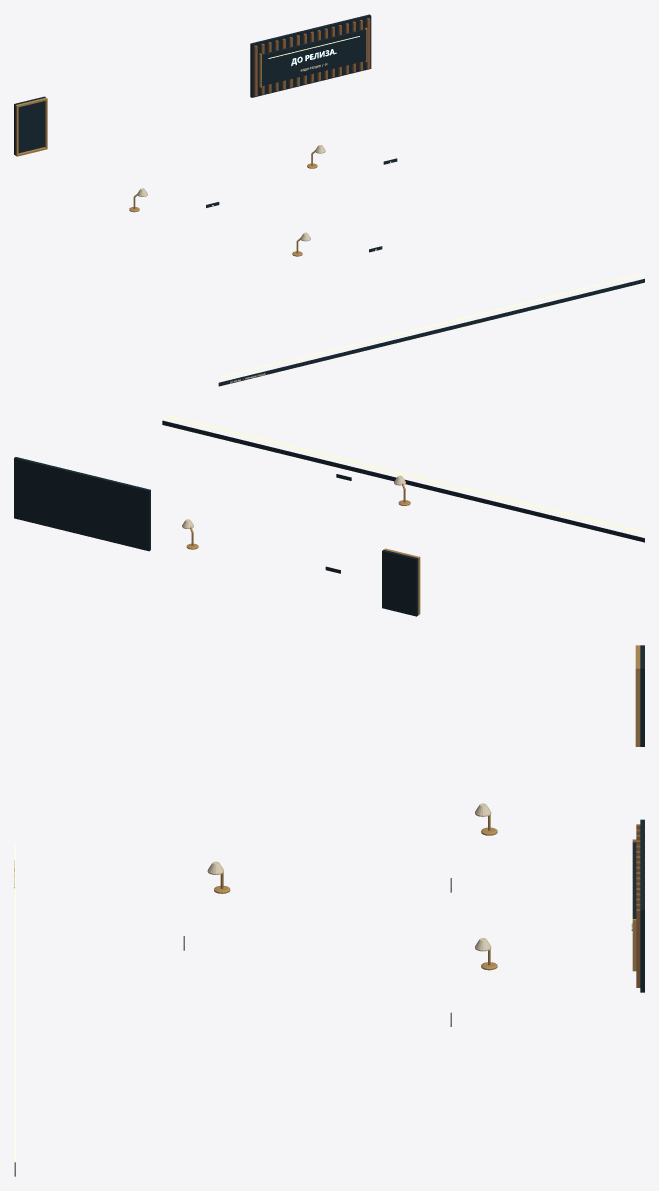
The model's file is office-dressing.glb.
3 renders of one model, top to bottom at view 1: azimuth 30°, elevation 25°; view 2: azimuth 150°, elevation 25°; view 3: azimuth 270°, elevation 25°, orthographic. The views are drawn at different scales.
Parts seen in each view (by area): view 1: SD_SignBed, SD_AcousticBed, SD_FrontInset, SD_OrbitArtwork, SD_FrontLED; view 2: SD_AcousticBed, SD_FrontInset, SD_OrbitBacking, SD_FrontLED; view 3: SD_AcousticBed.
Part boxes in pixels (box(x1,y1,x2,y2)): SD_SignBed: box(261, 29, 366, 85); SD_AcousticBed: box(250, 14, 371, 97); SD_FrontInset: box(218, 278, 644, 386); SD_OrbitArtwork: box(18, 101, 44, 153); SD_FrontLED: box(221, 274, 642, 377); SD_AcousticBed: box(14, 457, 150, 551); SD_FrontInset: box(162, 420, 644, 542); SD_OrbitBacking: box(382, 549, 418, 616); SD_FrontLED: box(165, 415, 642, 532); SD_AcousticBed: box(640, 819, 644, 992).
Bounding box in the file's own units: 9.74 × 2.98 × 8.03.
